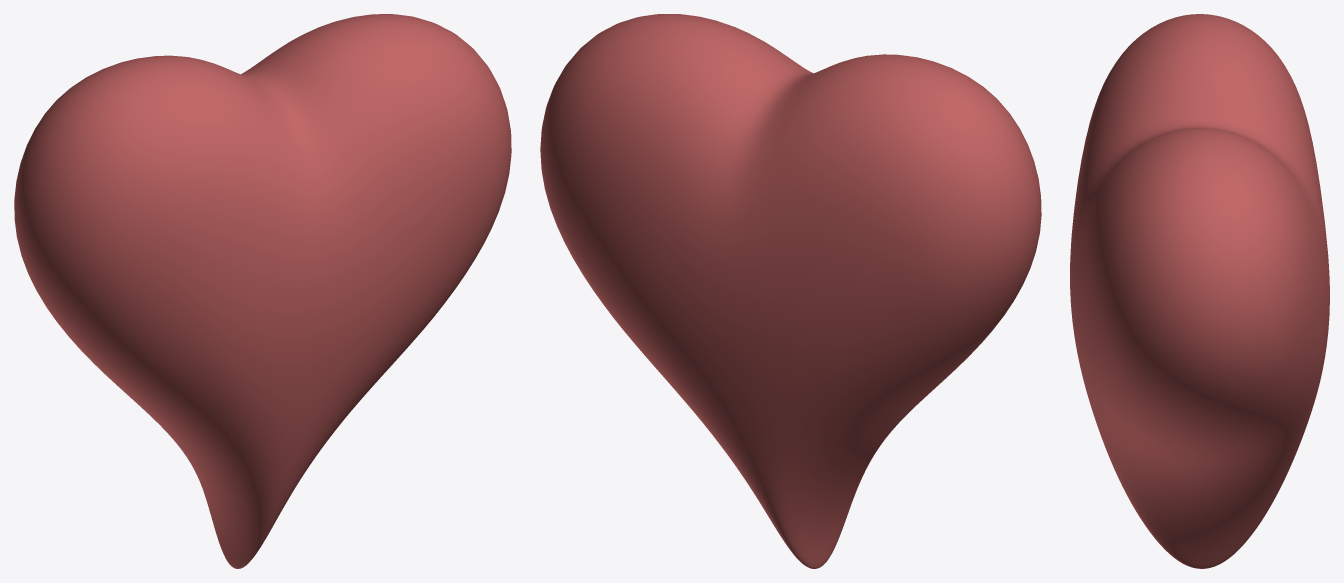
File: pumpheart.fbx
3 renders of one model, left to right at view 1: azimuth 30°, elevation 25°; view 2: azimuth 150°, elevation 25°; view 3: azimuth 270°, elevation 25°, orthographic. The views are drawn at different scales.
Visible parts, largest first — view 1: Heart; view 2: Heart; view 3: Heart.
Part boxes in pixels (x1=…): Heart: x1=14, y1=14, x2=511, y2=568; Heart: x1=540, y1=14, x2=1041, y2=568; Heart: x1=1070, y1=14, x2=1329, y2=568.
Size of the model in its own units: 18.55 by 19.5 by 9.15.
